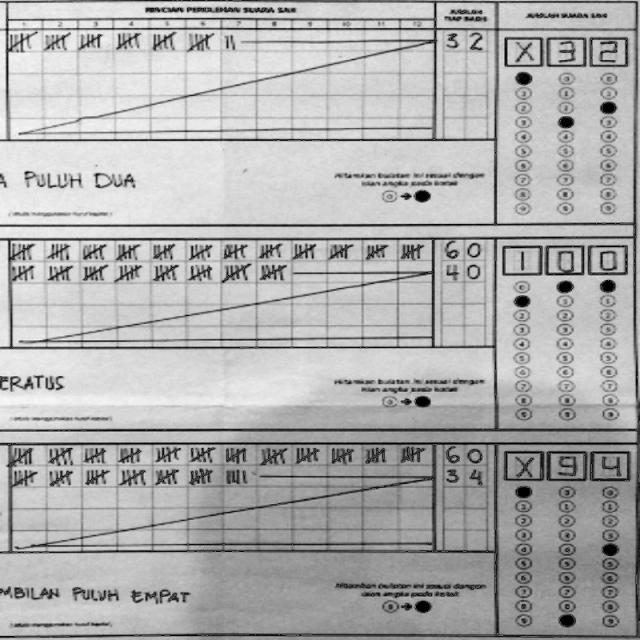Suara: (502, 26, 627, 73), (494, 238, 630, 274), (498, 445, 630, 482)
